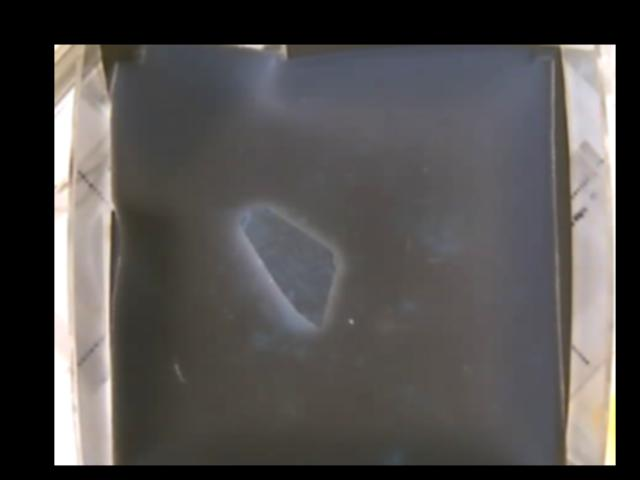China: (242, 205, 338, 322)
